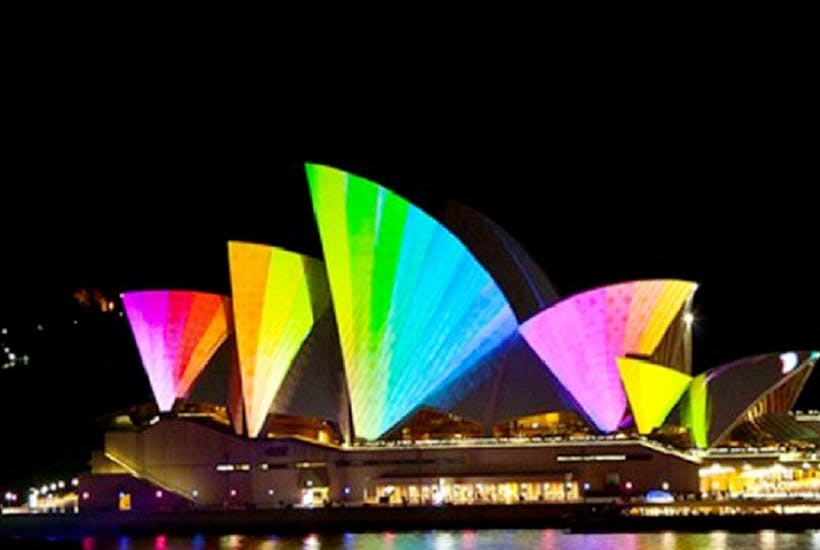opera house: (76, 125, 820, 446)
